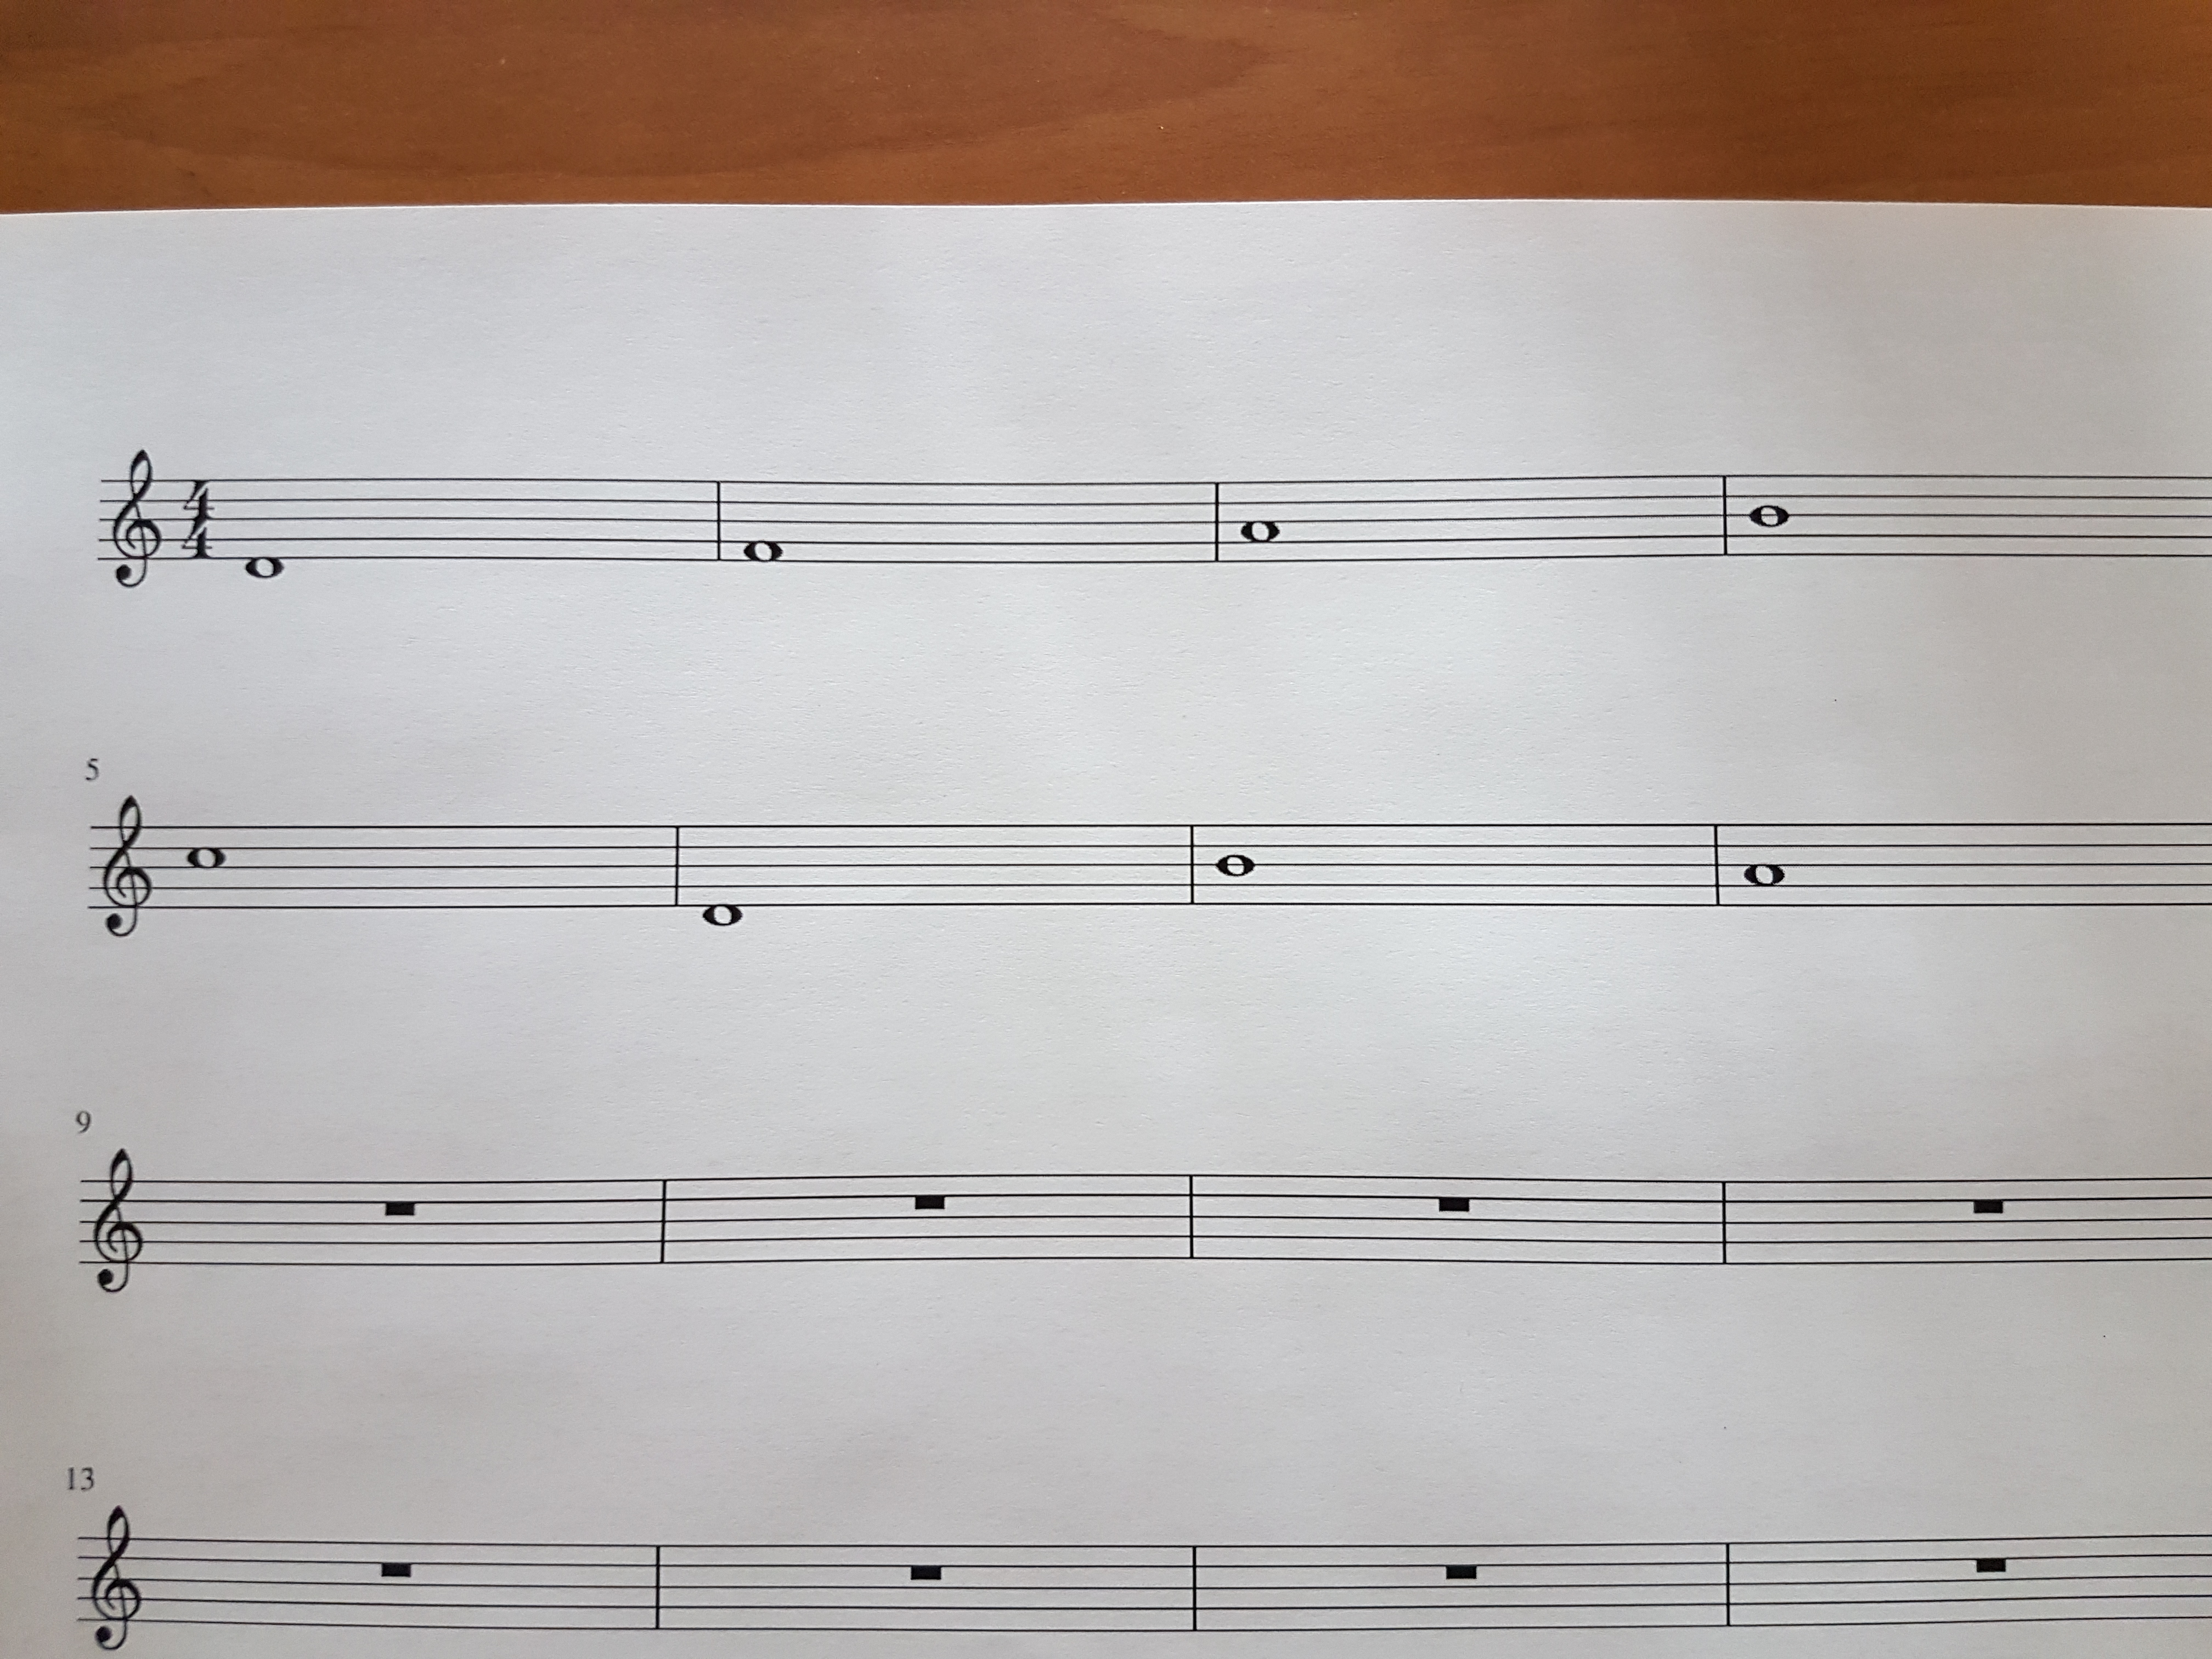key: (101, 430, 167, 619), (85, 1138, 153, 1307), (94, 784, 157, 950), (84, 1499, 145, 1659)
pipe: (643, 1528, 674, 1645), (646, 1161, 676, 1281), (1716, 1525, 1745, 1645), (1179, 1525, 1207, 1649), (1177, 1155, 1205, 1276), (1712, 1164, 1740, 1284), (660, 807, 688, 922), (1703, 809, 1730, 927), (704, 467, 730, 573), (1179, 807, 1202, 925), (1712, 460, 1737, 570), (1204, 465, 1226, 579)
semibreve_a: (1733, 793, 1794, 950), (1230, 450, 1287, 598)
semibreve_c: (174, 791, 235, 951)
semibreve_d: (691, 798, 752, 964), (235, 458, 293, 619)
semibreve_f: (735, 455, 791, 603)
semibreve_h: (1740, 450, 1799, 598), (1207, 798, 1261, 945)
